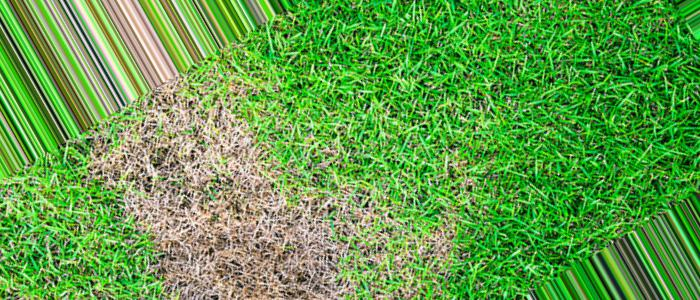patch: (113, 140, 269, 274)
